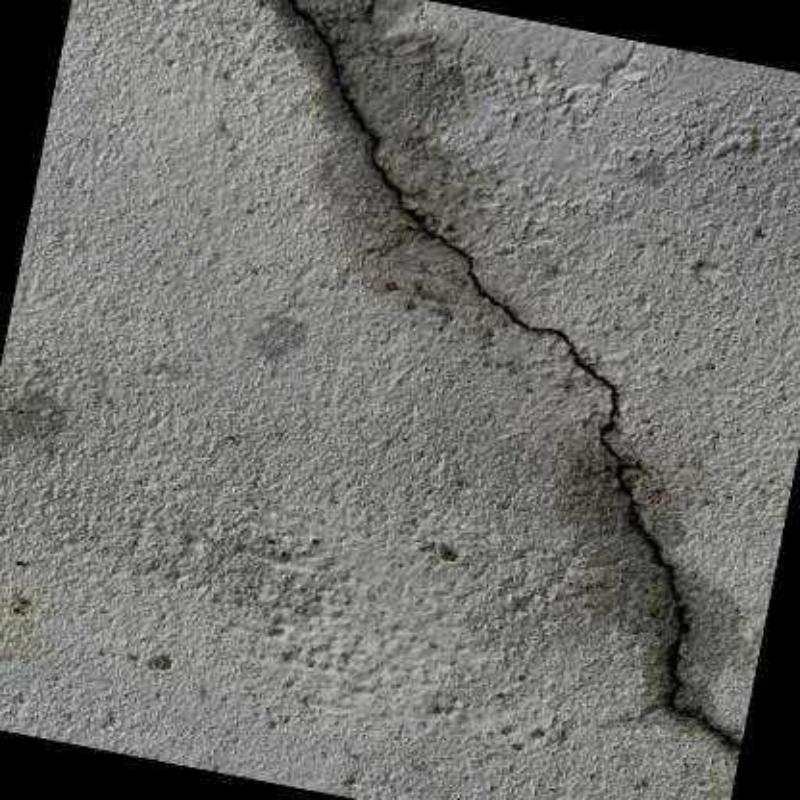crack: (291, 0, 741, 748)
